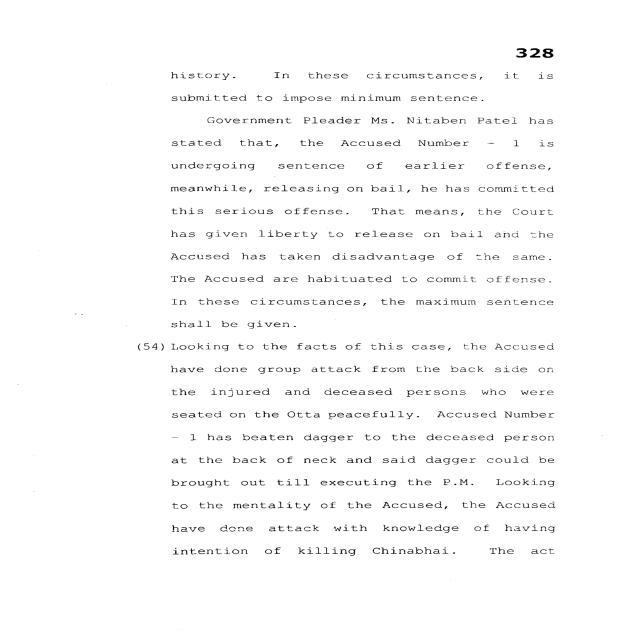page-number: (439, 0, 637, 66)
